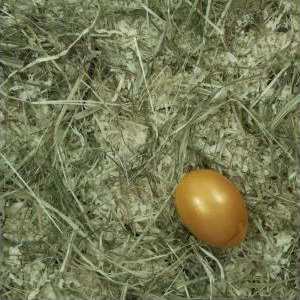egg: (173, 168, 248, 249)
